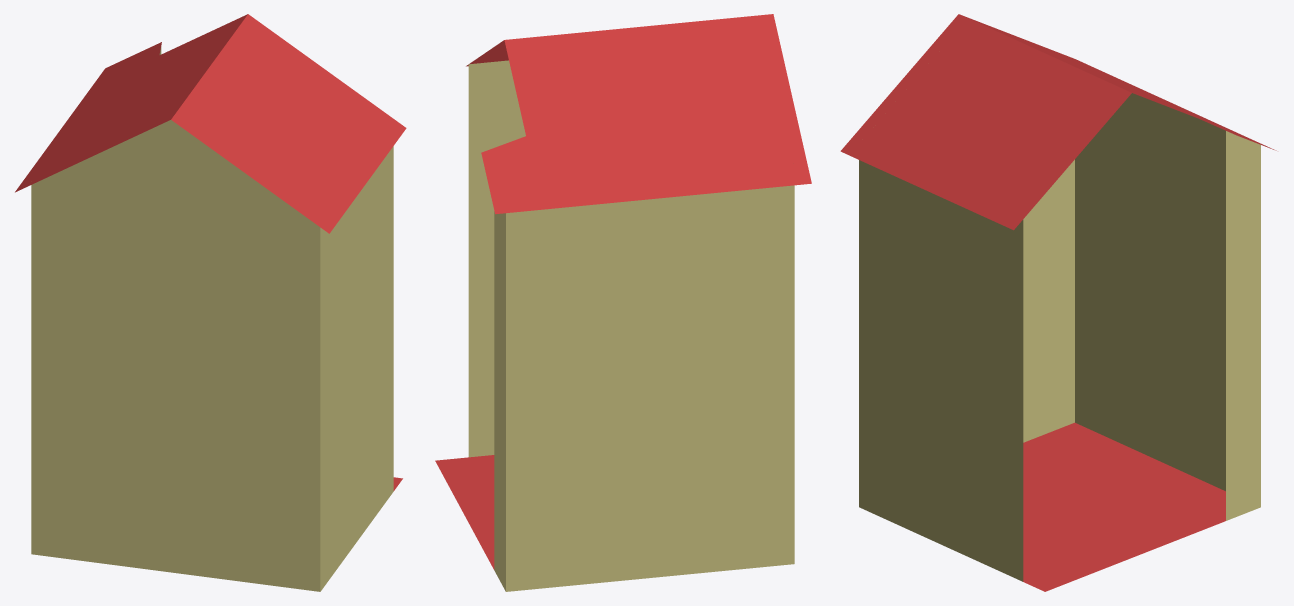
3 views of the same model, side by side, from view 1: azimuth 30°, elevation 25°; view 2: azimuth 150°, elevation 25°; view 3: azimuth 270°, elevation 25° (orthographic). The views are drawn at different scales.
Size of the model in its own units: 7.92 by 8.29 by 9.3.
